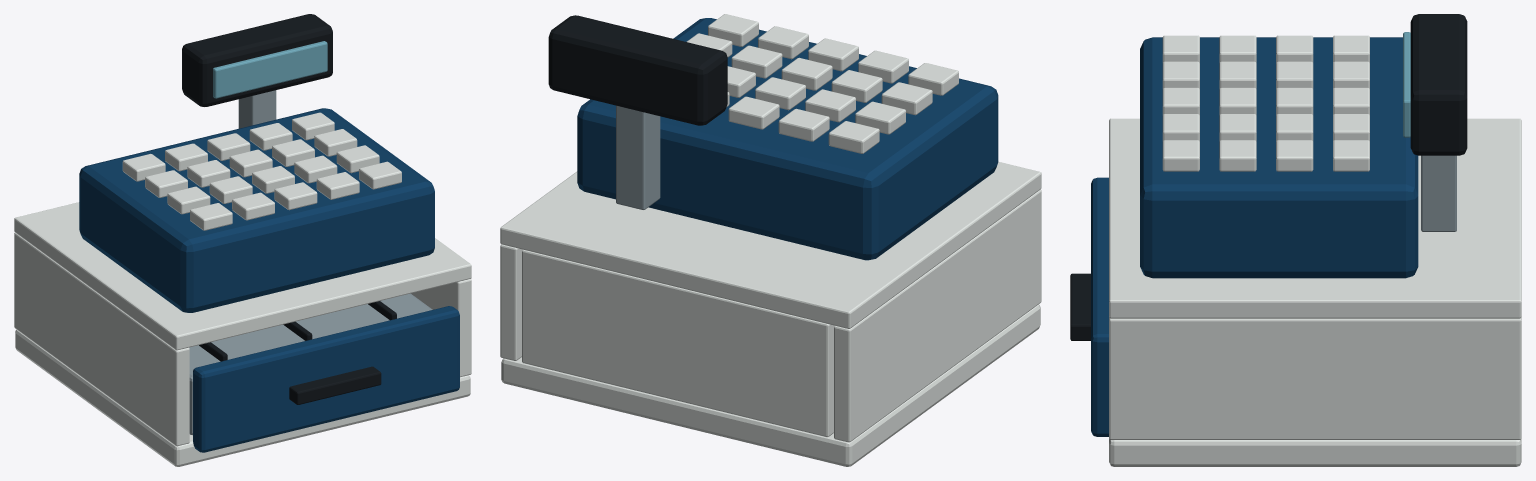
File: edited.glb
3 renders of one model, left to right at view 1: azimuth 30°, elevation 25°; view 2: azimuth 150°, elevation 25°; view 3: azimuth 270°, elevation 25°, orthographic. The views are drawn at different scales.
Parts seen in each view (by area): view 1: KEYPAD_Console, DRAWER_Front, BASE_Top, BASE_Side.001, BASE_Floor, DISPLAY_Housing, DRAWER_Tray, DISPLAY_Face, BASE_Side, DRAWER_Handle, DISPLAY_Support, KEYPAD_Key.008 (+19 smaller); view 2: KEYPAD_Console, BASE_Back, BASE_Top, BASE_Side.001, DISPLAY_Housing, BASE_Floor, DISPLAY_Support, BASE_Side, KEYPAD_Key.011, KEYPAD_Key.003, KEYPAD_Key.007, KEYPAD_Key.013 (+12 smaller); view 3: BASE_Side, KEYPAD_Console, BASE_Top, BASE_Floor, DISPLAY_Housing, DRAWER_Front, DISPLAY_Support, DRAWER_Handle, KEYPAD_Key.017, KEYPAD_Key.016, KEYPAD_Key.018, KEYPAD_Key.019 (+17 smaller).
Boxes of the visible parts, bbox=[...] form: KEYPAD_Console: bbox=[79, 108, 434, 312]; DRAWER_Front: bbox=[193, 306, 459, 452]; BASE_Top: bbox=[14, 202, 471, 350]; BASE_Side.001: bbox=[14, 232, 189, 446]; BASE_Floor: bbox=[15, 329, 470, 466]; DISPLAY_Housing: bbox=[182, 14, 332, 106]; DRAWER_Tray: bbox=[189, 293, 432, 435]; DISPLAY_Face: bbox=[213, 41, 327, 98]; BASE_Side: bbox=[411, 279, 471, 377]; DRAWER_Handle: bbox=[289, 366, 381, 404]; DISPLAY_Support: bbox=[238, 90, 276, 128]; KEYPAD_Key.008: bbox=[274, 182, 317, 210]; KEYPAD_Console: bbox=[577, 18, 998, 260]; BASE_Back: bbox=[522, 249, 834, 437]; BASE_Top: bbox=[500, 161, 1041, 328]; BASE_Side.001: bbox=[834, 189, 1041, 442]; DISPLAY_Housing: bbox=[548, 15, 727, 125]; BASE_Floor: bbox=[501, 304, 1040, 466]; DISPLAY_Support: bbox=[616, 105, 660, 209]; BASE_Side: bbox=[500, 244, 522, 360]; KEYPAD_Key.011: bbox=[728, 96, 779, 129]; KEYPAD_Key.003: bbox=[828, 121, 879, 153]; KEYPAD_Key.007: bbox=[778, 108, 829, 141]; KEYPAD_Key.013: bbox=[731, 45, 782, 78]; BASE_Side: bbox=[1109, 317, 1521, 439]; KEYPAD_Console: bbox=[1140, 37, 1418, 278]; BASE_Top: bbox=[1109, 118, 1521, 318]; BASE_Floor: bbox=[1109, 438, 1521, 466]; DISPLAY_Housing: bbox=[1410, 14, 1467, 155]; DRAWER_Front: bbox=[1091, 177, 1108, 436]; DISPLAY_Support: bbox=[1421, 155, 1456, 231]; DRAWER_Handle: bbox=[1070, 273, 1090, 340]; KEYPAD_Key.017: bbox=[1219, 140, 1256, 171]; KEYPAD_Key.016: bbox=[1162, 140, 1199, 171]; KEYPAD_Key.018: bbox=[1276, 140, 1313, 171]; KEYPAD_Key.019: bbox=[1333, 140, 1369, 171].
Size of the model in its own units: 0.42 by 0.39 by 0.4375.
